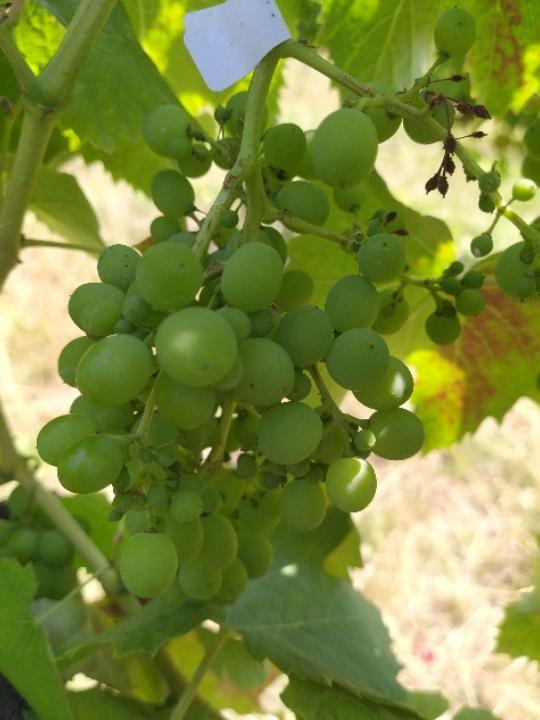grape: (33, 3, 540, 607)
